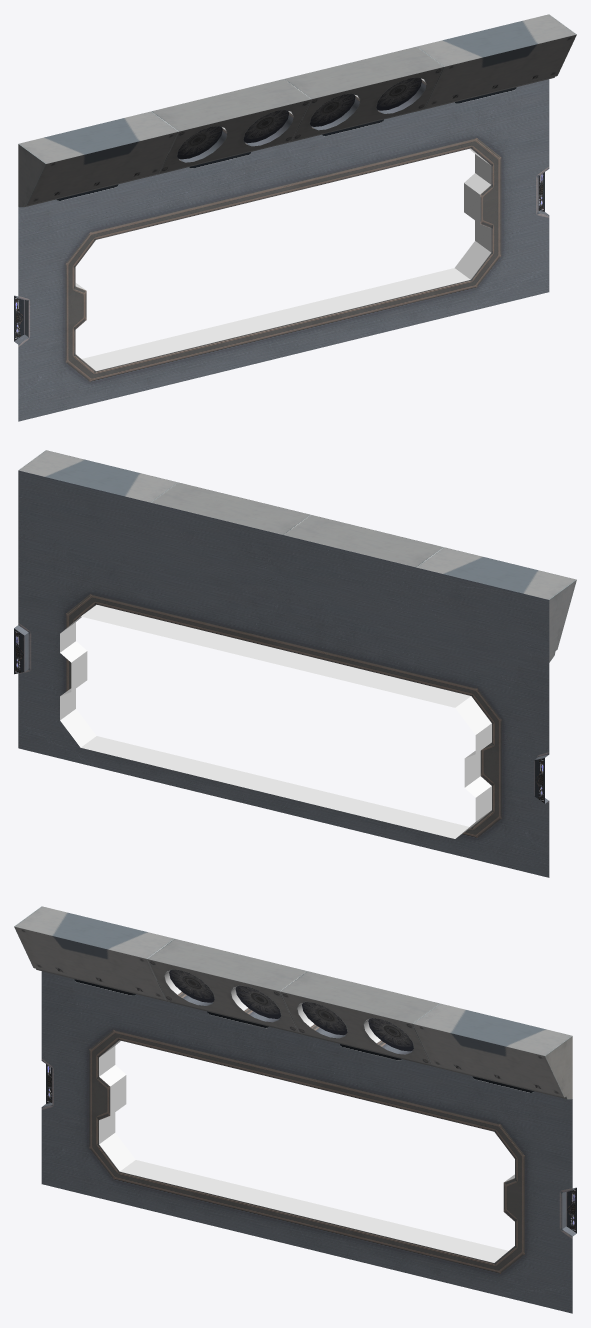
Rendered from DS_SM019_Scifi_Room_WallWindow8M_01.fbx.
The picture shows the model from 3 angles, top to bottom: view 1: azimuth 30°, elevation 25°; view 2: azimuth 150°, elevation 25°; view 3: azimuth 330°, elevation 25°; orthographic projection.
Visible parts, largest first — view 1: DS_SM019_Scifi_Room_WallWindow8M_01_LP.001; view 2: DS_SM019_Scifi_Room_WallWindow8M_01_LP.001; view 3: DS_SM019_Scifi_Room_WallWindow8M_01_LP.001.
Part boxes in pixels (x1,y1,x2,y2): DS_SM019_Scifi_Room_WallWindow8M_01_LP.001: [14, 14, 576, 421]; DS_SM019_Scifi_Room_WallWindow8M_01_LP.001: [14, 450, 576, 877]; DS_SM019_Scifi_Room_WallWindow8M_01_LP.001: [14, 906, 576, 1313].
Size of the model in its own units: 1600 by 800 by 229.
